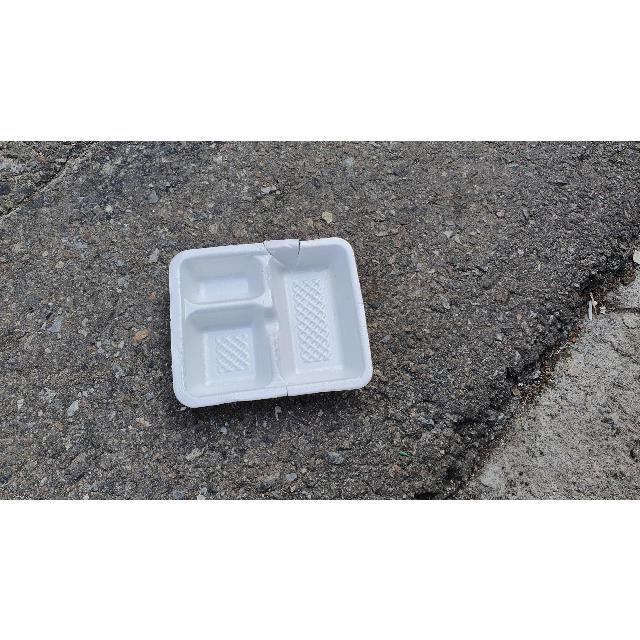Recipiente plastico: (170, 240, 372, 407)
